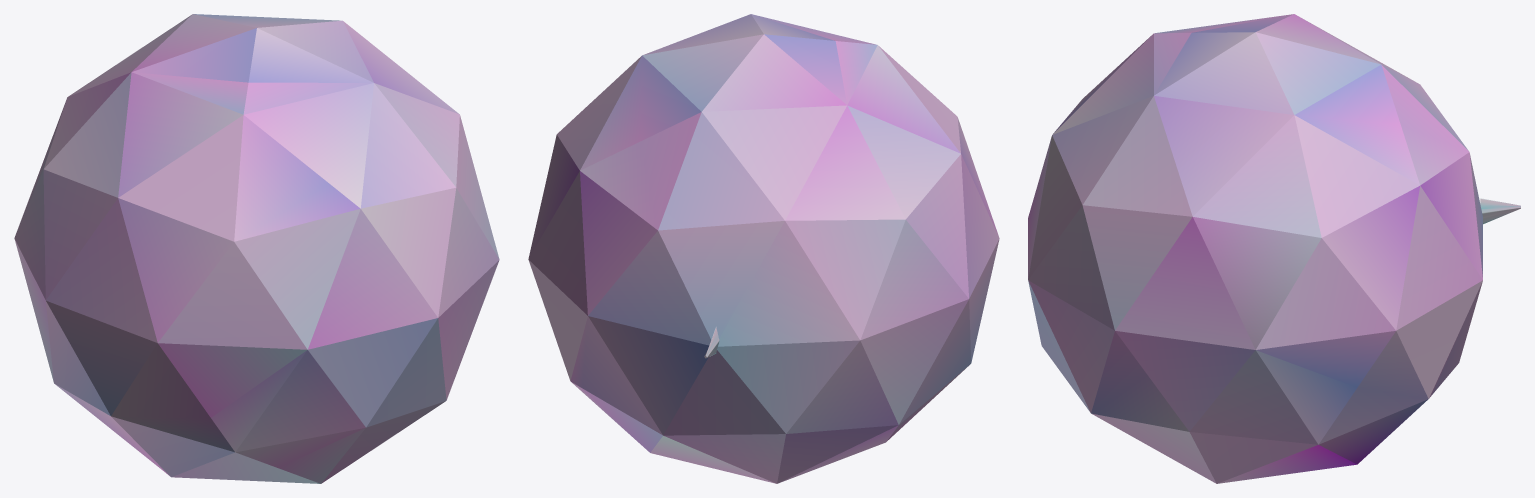
3 views of the same model, side by side, from view 1: azimuth 30°, elevation 25°; view 2: azimuth 150°, elevation 25°; view 3: azimuth 270°, elevation 25° (orthographic). The views are drawn at different scales.
Parts seen in each view (by area): view 1: faceted_sphere; view 2: faceted_sphere; view 3: faceted_sphere, pointed_tip.
Boxes of the visible parts, bbox=[...] form: faceted_sphere: bbox=[14, 14, 499, 483]; faceted_sphere: bbox=[528, 14, 999, 483]; faceted_sphere: bbox=[1028, 14, 1482, 483]; pointed_tip: bbox=[1480, 198, 1520, 224].
Size of the model in its own units: 11.09 by 11.09 by 11.42.
